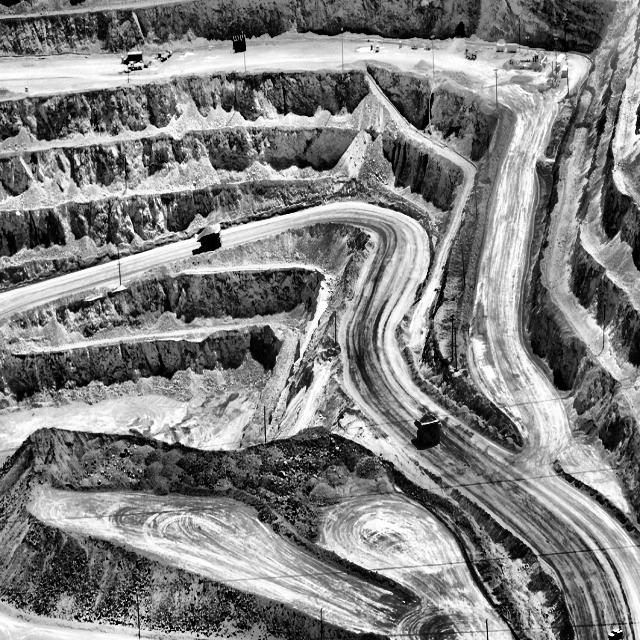dump_truck: (182, 210, 235, 264), (411, 398, 442, 455)
